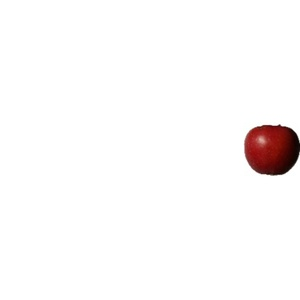maçã braeburn: (242, 123, 298, 177)
